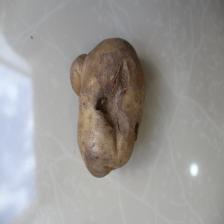Diseased-fungal potato: (70, 35, 148, 180)
